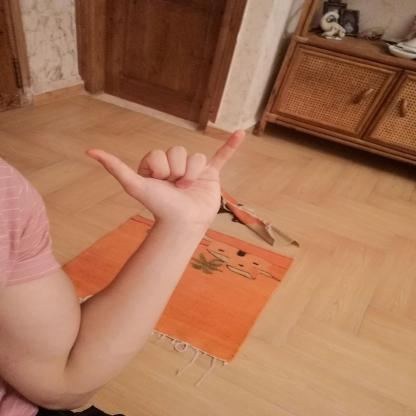YA: (76, 121, 258, 235)
